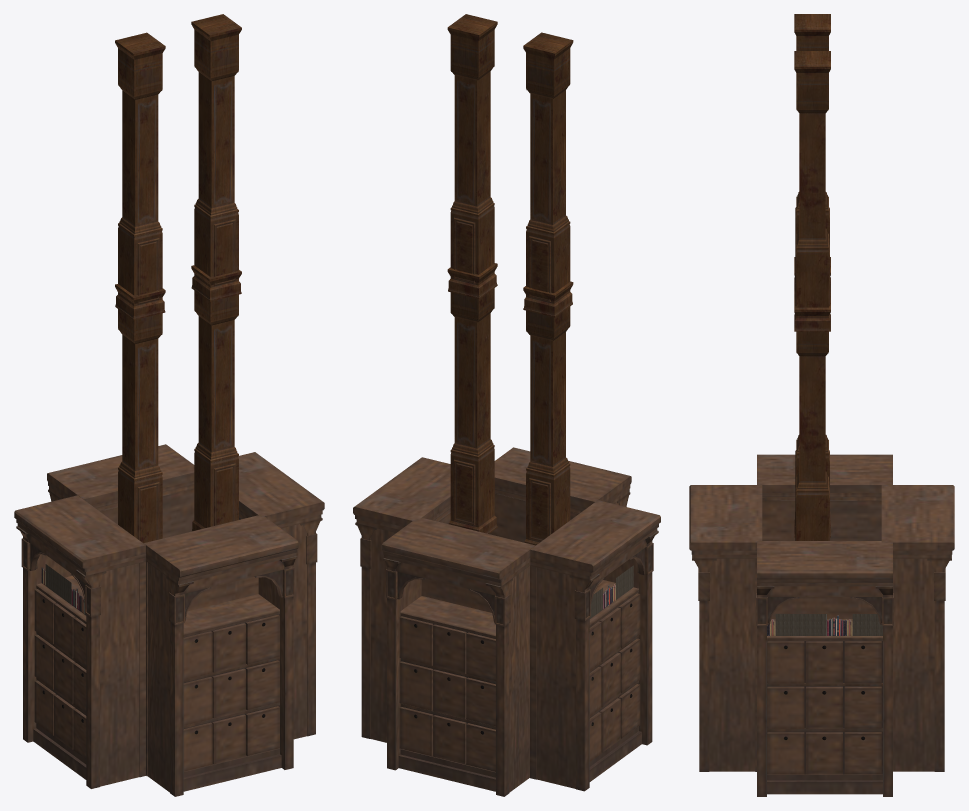
The model's file is Pillar01.fbx.
3 renders of one model, left to right at view 1: azimuth 30°, elevation 25°; view 2: azimuth 150°, elevation 25°; view 3: azimuth 270°, elevation 25°, orthographic.
Visible parts, largest first — view 1: Pillar01; view 2: Pillar01; view 3: Pillar01.
Part boxes in pixels (x1,y1,x2,y2): Pillar01: (14,14,324,796); Pillar01: (353,14,660,796); Pillar01: (689,14,954,796).
Bounding box in the file's own units: 362 × 1011 × 345.
Materials: 1 (1 with a texture image).
